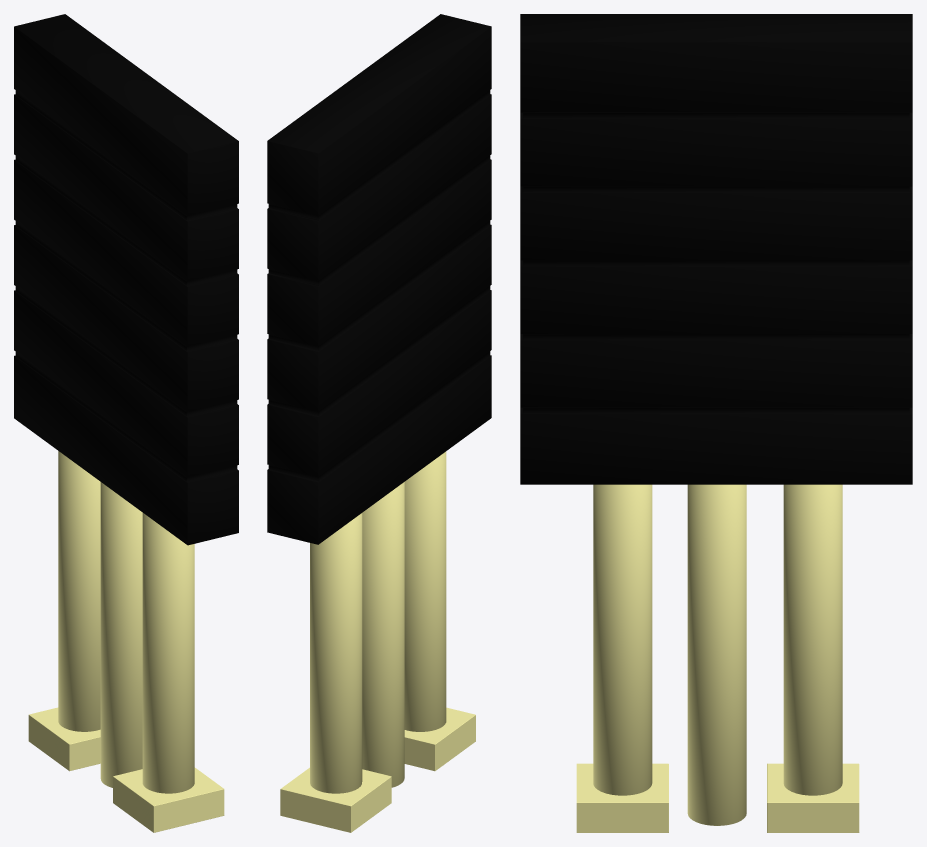
File: Pipebox.fbx
3 views of the same model, side by side, from view 1: azimuth 30°, elevation 25°; view 2: azimuth 150°, elevation 25°; view 3: azimuth 270°, elevation 25° (orthographic). The views are drawn at different scales.
Parts seen in each view (by area): view 1: Pipebox; view 2: Pipebox; view 3: Pipebox.
Boxes of the visible parts, x1,y1,x2,y2 form: Pipebox: (14,14,238,832); Pipebox: (267,14,491,832); Pipebox: (520,14,912,832).
Bounding box in the file's own units: 21.17 × 199 × 89.94.
